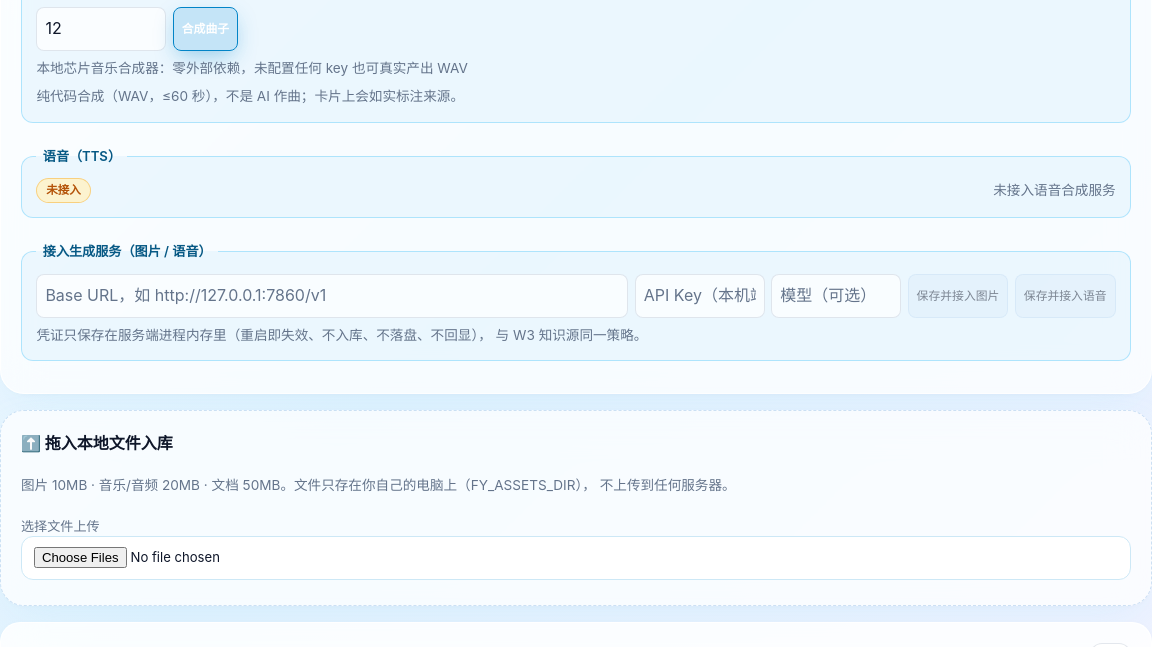
Test: PrivateSpacePage · 通道配置 › 保存接入后刷新通道状态并如实提示来源
The image size is (1152, 647).
(page scrolled)
Type "http://127.0.0.1:7860/v1" into the field with test id "asset-channel-base-url" at (332, 296), box x1=36 y1=274 x2=628 y2=318
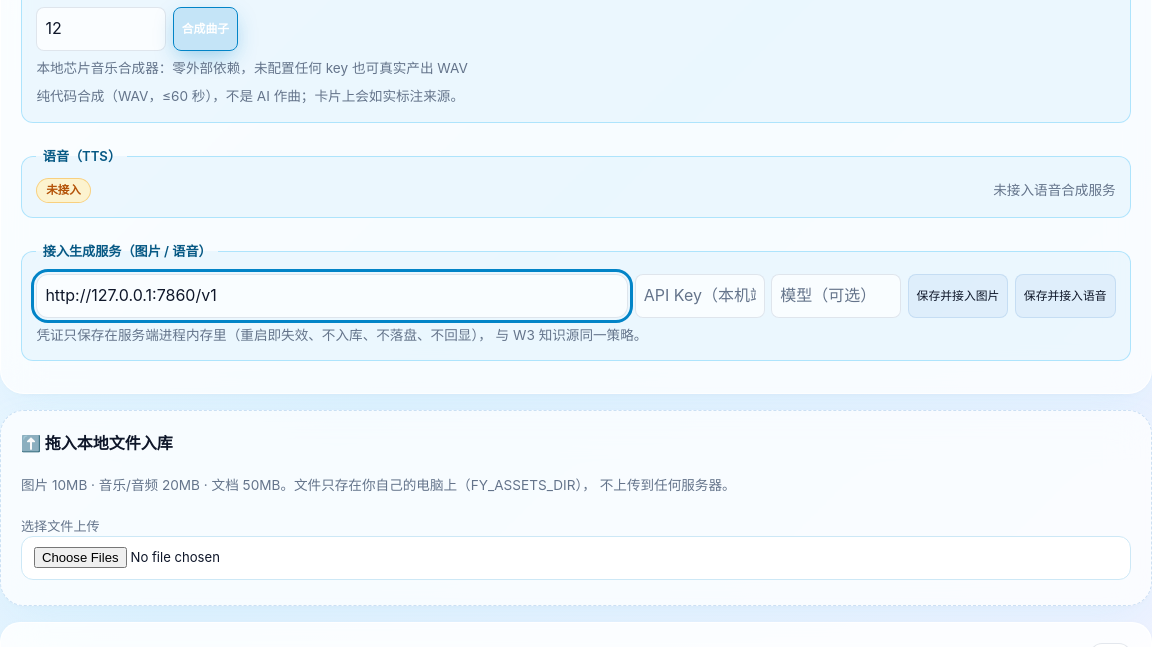
Click the button with test id "asset-channel-save" at (958, 296), box x1=908 y1=274 x2=1008 y2=318
(page scrolled)
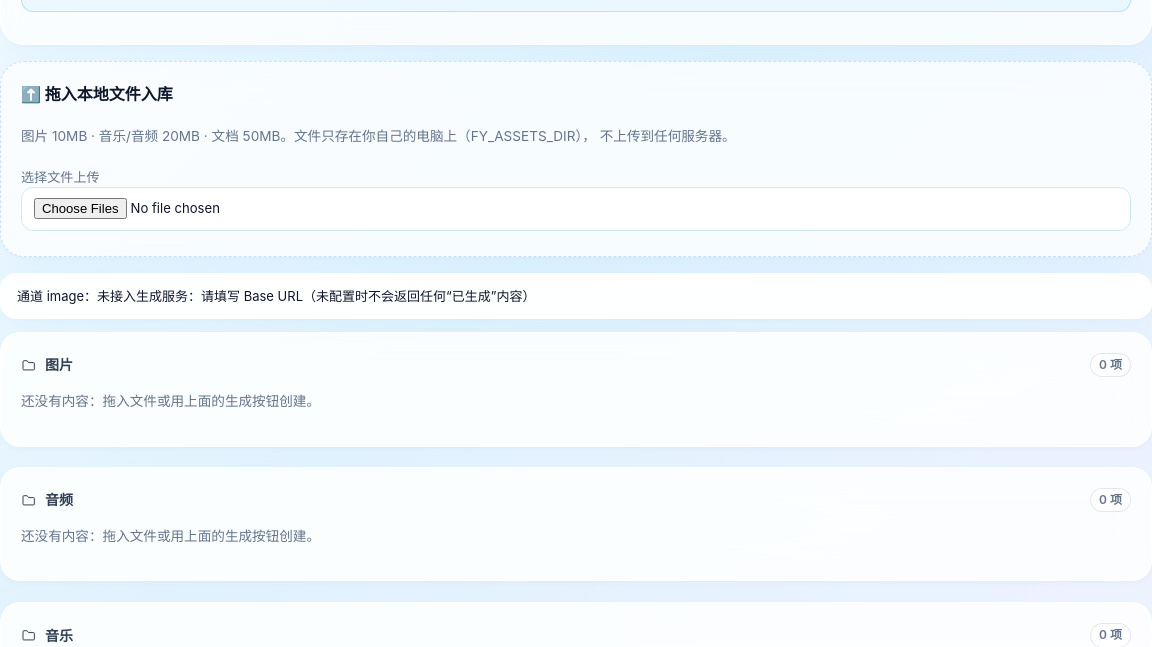
Expected: the text "通道 image：未接入生成服务：请填写 Base URL（未配置时不会返回任何“已生成”内容）" is shown, x1=0 y1=273 x2=1151 y2=319
